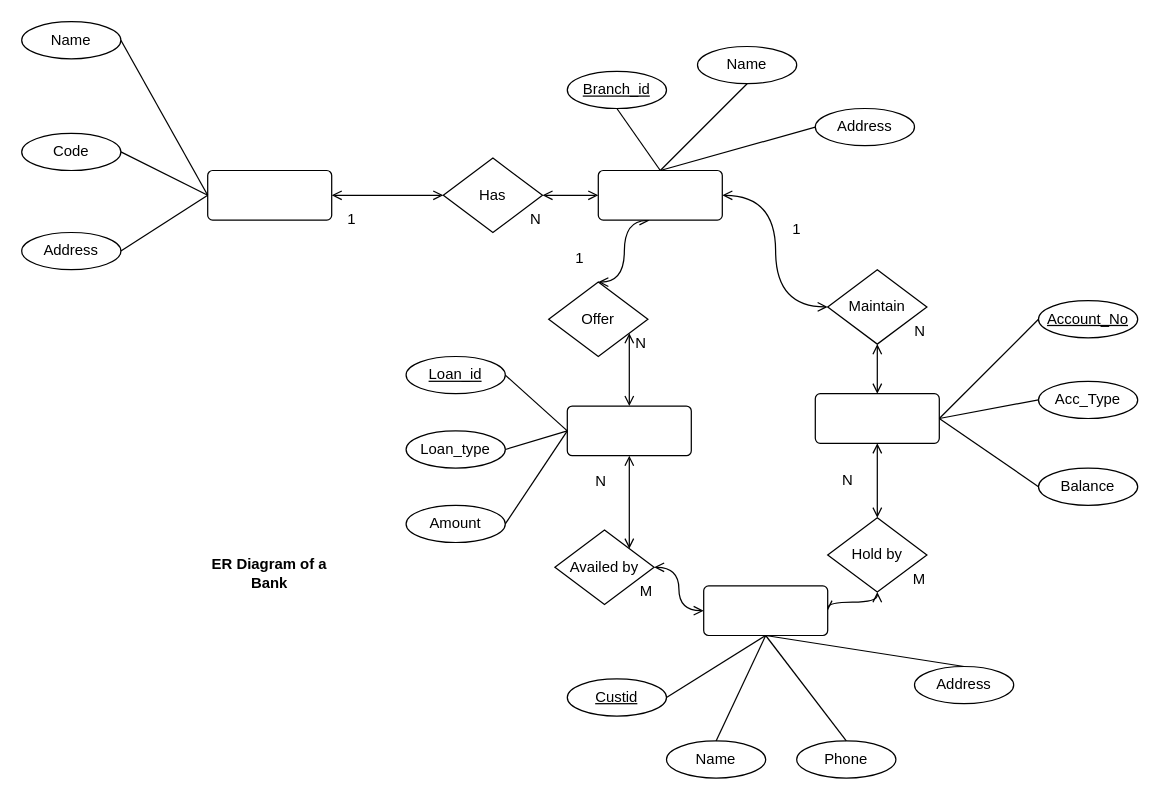
Some shapes in this 1159 by 800 pixel diagram are drawn without their labels. The box of each missing label's shape, as (x1, y1, x2, y2) in pixels:
Account: (814, 392, 939, 443)
Bank: (206, 169, 332, 220)
Branch: (597, 169, 722, 220)
Customer: (702, 585, 828, 636)
Loan: (566, 405, 691, 456)
